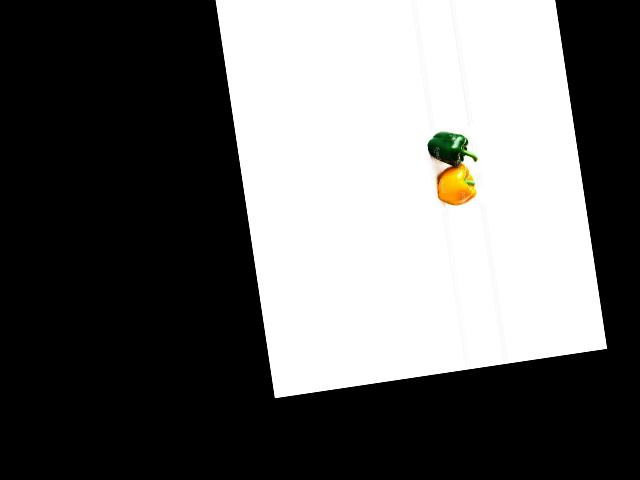bell_pepper: (419, 124, 474, 169)
